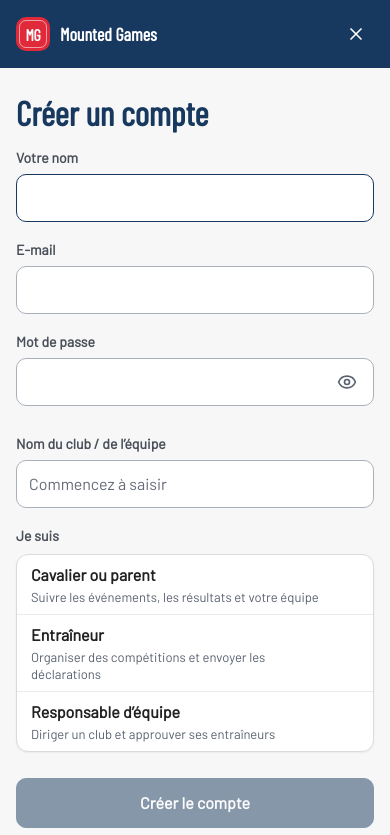
sign in and sign up in fr › translates the sign up page and leaves club names as typed
Expected: the heading "Créer un compte" is shown, [16,92,208,133]
Type "Stockport" into the field labelled "Nom du club / de l’équipe" at coordinates (195, 484), box [29,462,361,506]
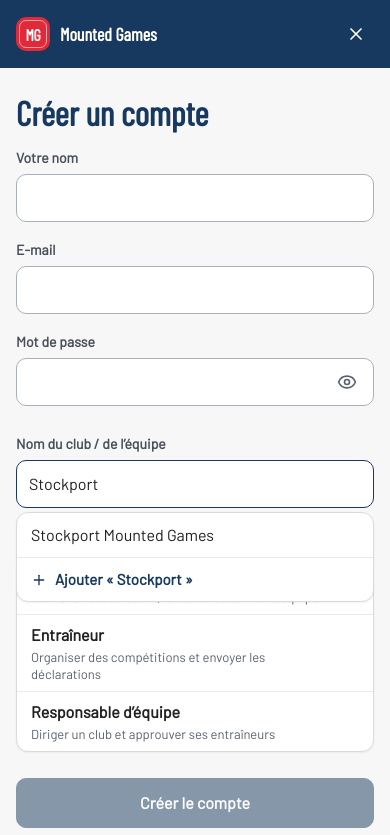
Expected: the button "Stockport Mounted Games" is shown
Click the button "Stockport Mounted Games" at coordinates (195, 535), box [17,513,373,557]
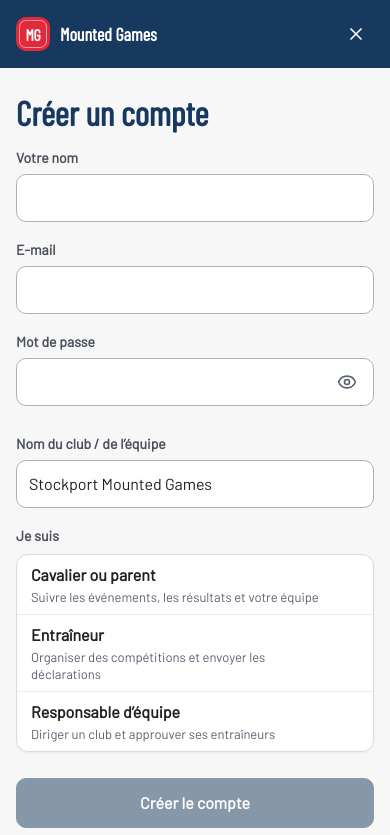
Click the radio button labelled "Entraîneur" at coordinates (195, 652), box [17,614,373,691]
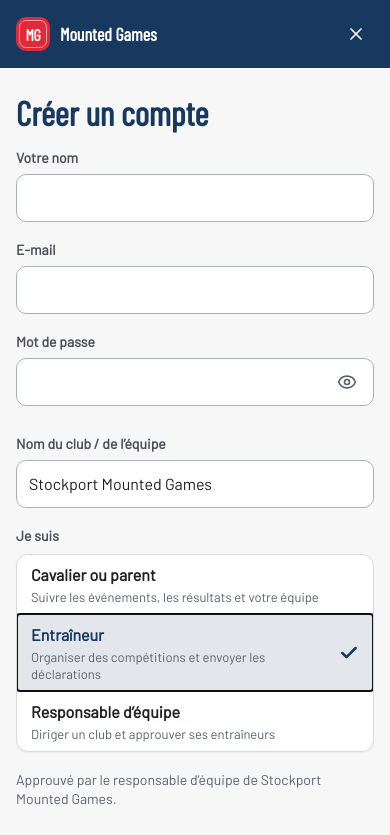
Expected: the text "Approuvé par le responsable d’équipe de Stockport Mounted Games." is shown, [16,770,374,809]
